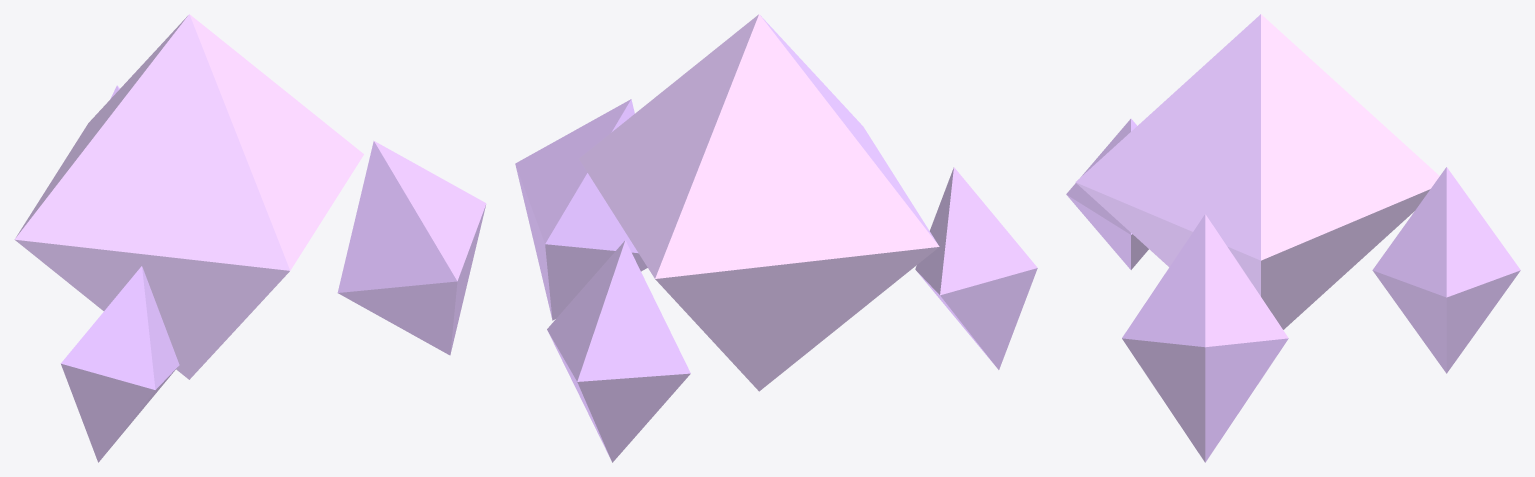
File: ville_biome_cristal.glb
The picture shows the model from 3 angles, left to right: view 1: azimuth 30°, elevation 25°; view 2: azimuth 150°, elevation 25°; view 3: azimuth 270°, elevation 25°; orthographic projection. The views are drawn at different scales.
Visible parts, largest first — view 1: biome_cristal; view 2: biome_cristal; view 3: biome_cristal.
Boxes of the visible parts, bbox=[...] form: biome_cristal: bbox=[14, 14, 486, 462]; biome_cristal: bbox=[515, 14, 1037, 462]; biome_cristal: bbox=[1066, 14, 1520, 462].
Size of the model in its own units: 2.67 by 2.05 by 2.45.
